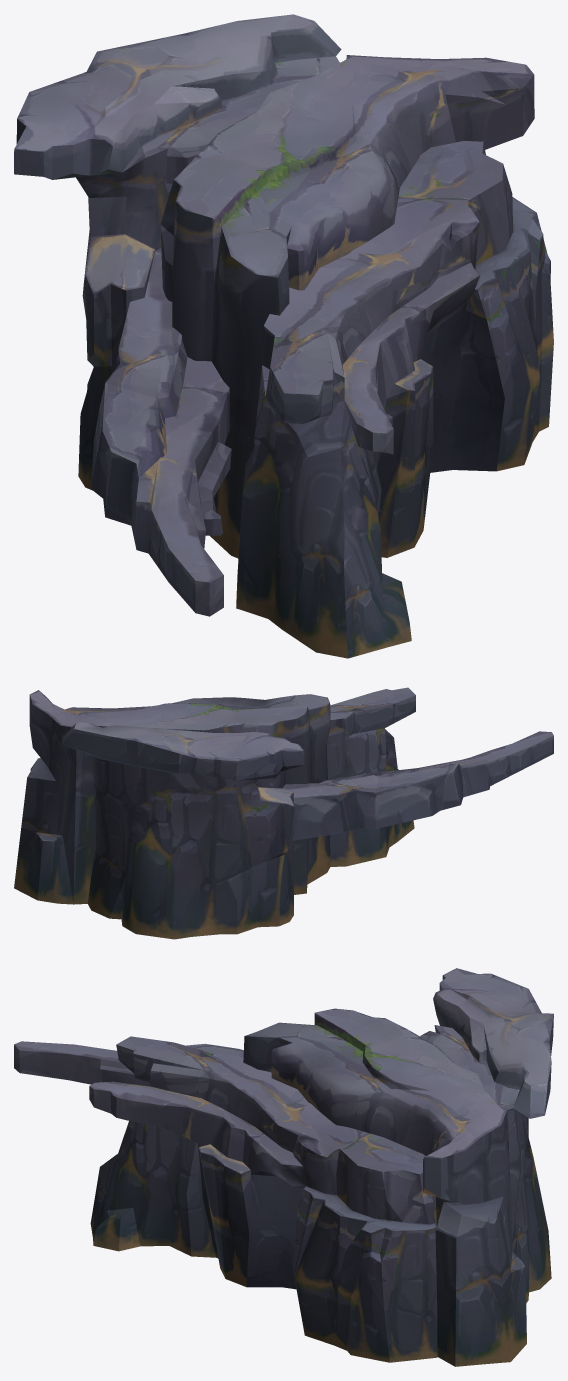
The model's file is scene_malujiakuangdao_shan06.FBX.
3 views of the same model, one above another, from view 1: azimuth 30°, elevation 25°; view 2: azimuth 150°, elevation 25°; view 3: azimuth 270°, elevation 25° (orthographic). The views are drawn at different scales.
Parts seen in each view (by area): view 1: scene_malujiakuangdao_shan06; view 2: scene_malujiakuangdao_shan06; view 3: scene_malujiakuangdao_shan06.
Boxes of the visible parts, box(x1,y1,x2,y2) form: scene_malujiakuangdao_shan06: box(14, 14, 553, 658); scene_malujiakuangdao_shan06: box(14, 687, 553, 939); scene_malujiakuangdao_shan06: box(14, 968, 553, 1366).
Bounding box in the file's own units: 1291 × 677 × 1373.
